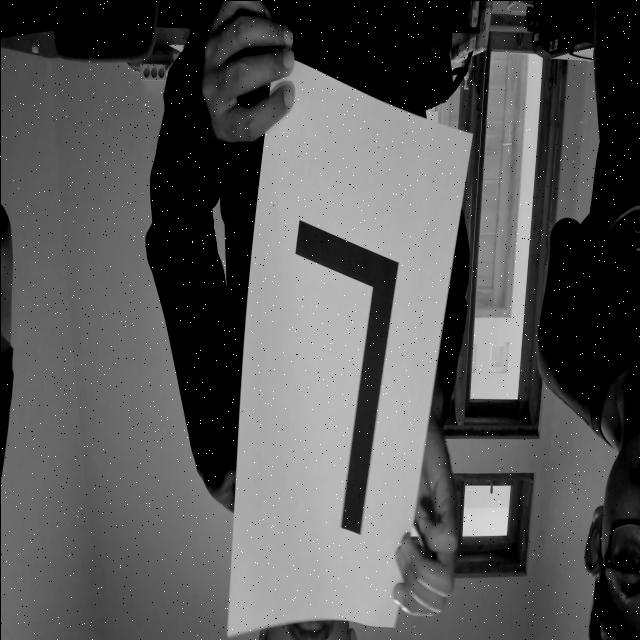l: (278, 197, 404, 541)
